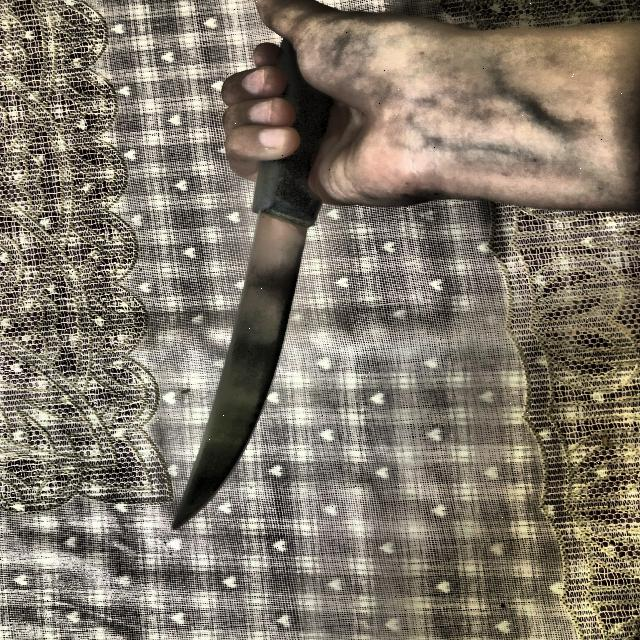knife: (172, 39, 328, 526)
